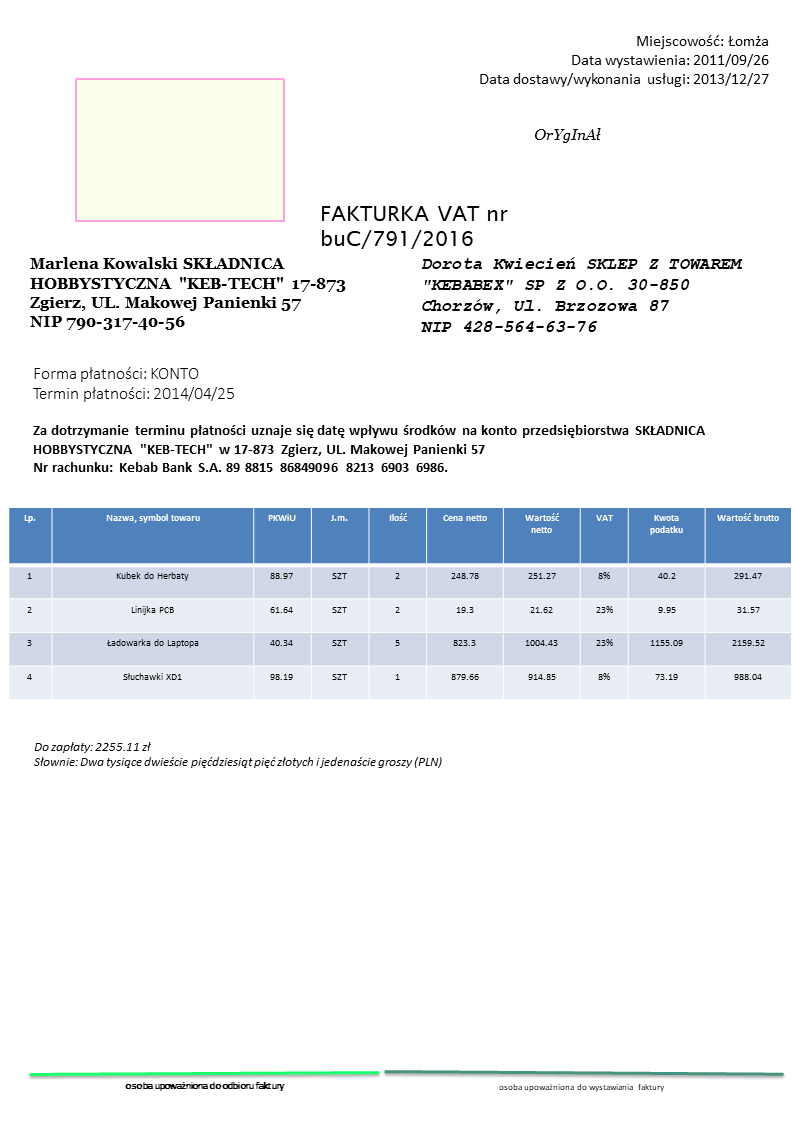Table: (7, 507, 794, 700)
TextBox: (30, 422, 712, 477), (418, 253, 747, 336), (27, 253, 350, 332), (476, 31, 773, 90), (30, 738, 444, 772), (318, 203, 512, 253), (31, 365, 238, 404), (496, 1080, 669, 1094), (123, 1079, 285, 1093), (530, 122, 605, 146)
